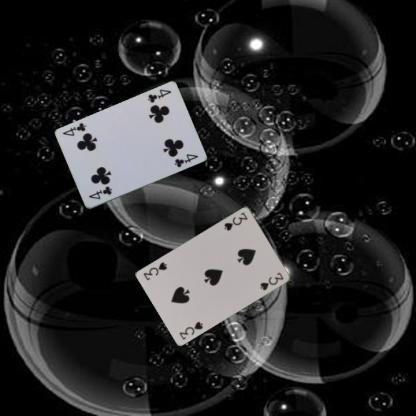3s: (221, 209, 249, 232), (177, 318, 204, 341)
4c: (86, 184, 113, 202), (145, 87, 172, 104)
